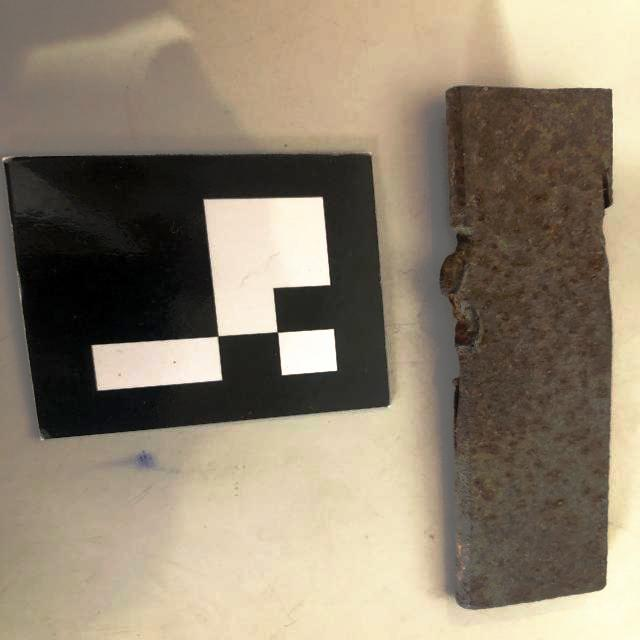Corrosion: (438, 85, 613, 609)
